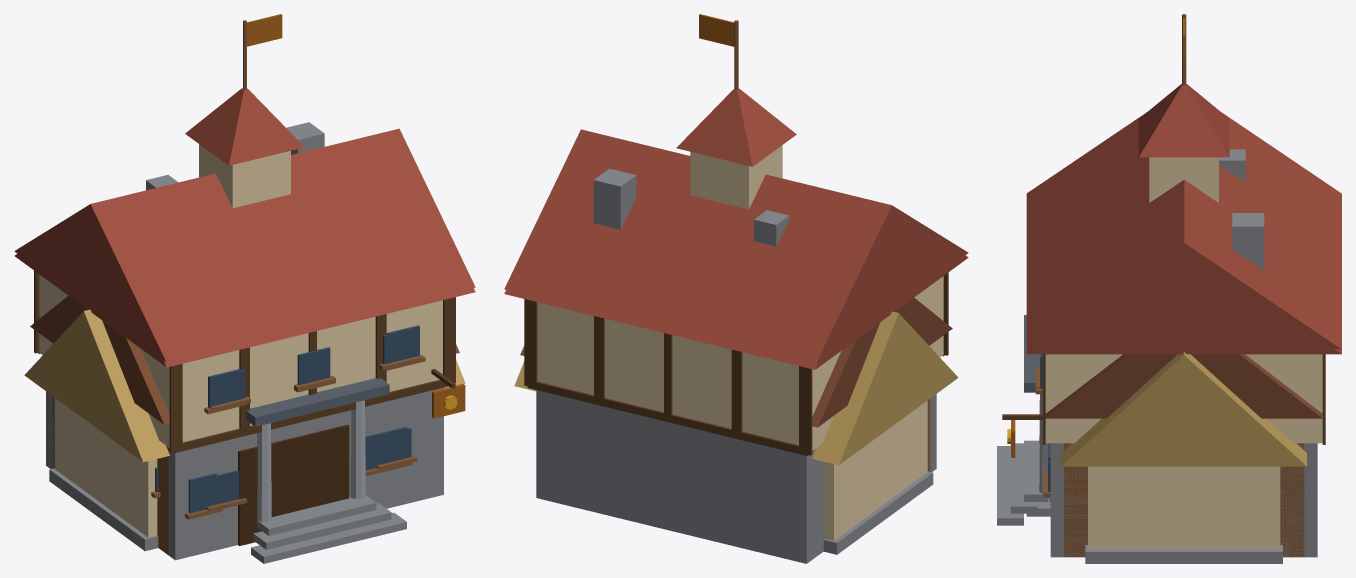
File: village.glb
3 renders of one model, left to right at view 1: azimuth 30°, elevation 25°; view 2: azimuth 150°, elevation 25°; view 3: azimuth 270°, elevation 25°, orthographic. The views are drawn at different scales.
Visible parts, largest first — view 1: roof.006, ground_floor, upper_floor, roof.002, roof.005, walls.002, door.002, tower_roof, upper_floor.002, roof.007, tower, porch_roof (+23 smaller); view 2: roof.006, ground_floor, upper_floor, upper_floor.002, roof.005, roof.002, walls.002, tower_roof, roof.007, tower, beam.011, chimney.004 (+10 smaller); view 3: roof.006, roof.002, walls.002, roof.005, roof.007, upper_floor, tower_roof, ground_floor, walls.003, upper_floor.002, foundation.002, tower (+7 smaller).
Boxes of the visible parts, x1,y1,x2,y2 form: roof.006: (14,128,475,362); ground_floor: (46,387,443,560); upper_floor: (39,274,442,447); roof.002: (14,204,475,367); roof.005: (24,309,465,462); walls.002: (55,398,157,537); door.002: (273,424,349,516); tower_roof: (185,88,304,165); upper_floor.002: (39,275,442,445); roof.007: (30,296,459,424); tower: (199,144,290,208); porch_roof: (246,378,389,426); roof.006: (504,129,968,364); ground_floor: (536,390,936,563); upper_floor: (537,276,943,450); upper_floor.002: (537,302,943,449); roof.005: (514,311,958,465); roof.002: (504,205,968,369); walls.002: (825,400,927,540); tower_roof: (676,89,796,166); roof.007: (520,297,952,427); tower: (690,145,782,209); beam.011: (527,381,808,455); chimney.004: (593,168,636,229); roof.006: (1026,112,1341,349); roof.002: (1026,243,1341,354); walls.002: (1088,466,1280,549); roof.005: (1061,352,1306,466); roof.007: (1045,354,1322,418); upper_floor: (1045,354,1322,443); tower_roof: (1138,84,1229,157); ground_floor: (1050,443,1317,557); walls.003: (1064,443,1304,557); upper_floor.002: (1045,354,1322,443); foundation.002: (1085,545,1282,563); tower: (1149,157,1218,202).
Size of the model in its own units: 7.2 by 9.86 by 6.45.
